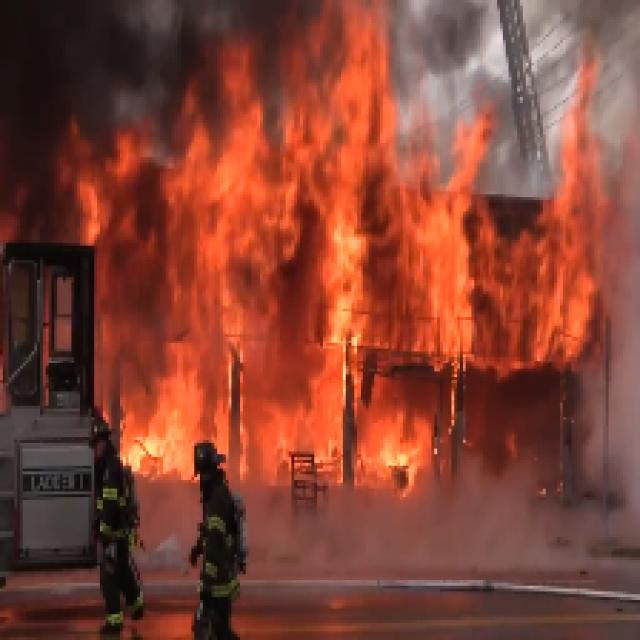fire: (68, 175, 584, 461), (188, 59, 388, 175)
smoke: (257, 495, 639, 586)
